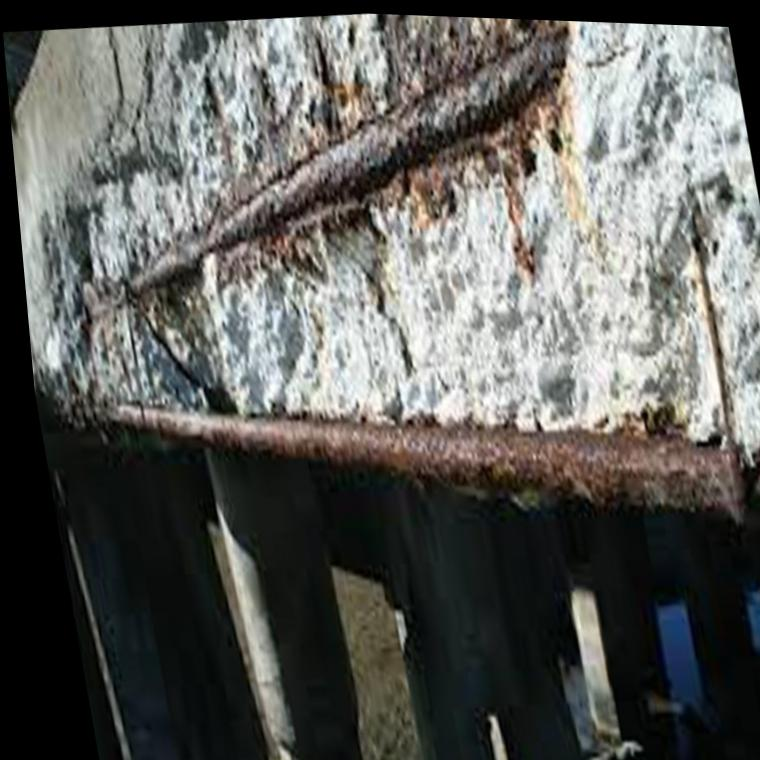crack: (107, 25, 123, 97)
damage: (25, 11, 760, 527)
